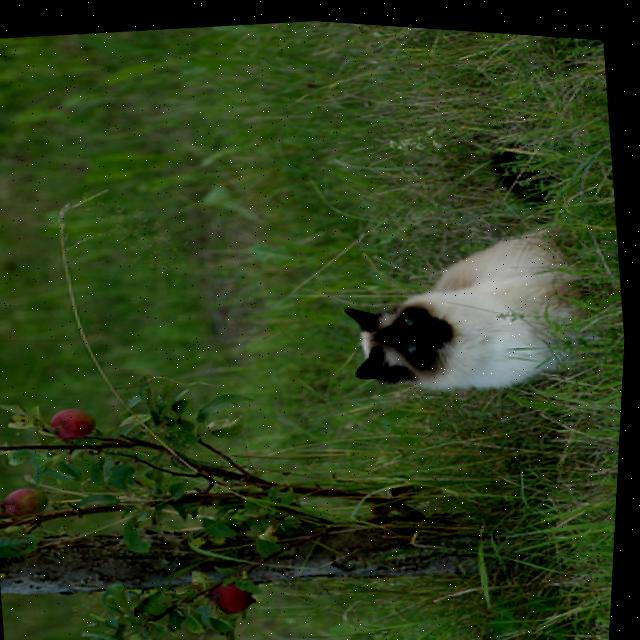Birman: (319, 121, 601, 405)
